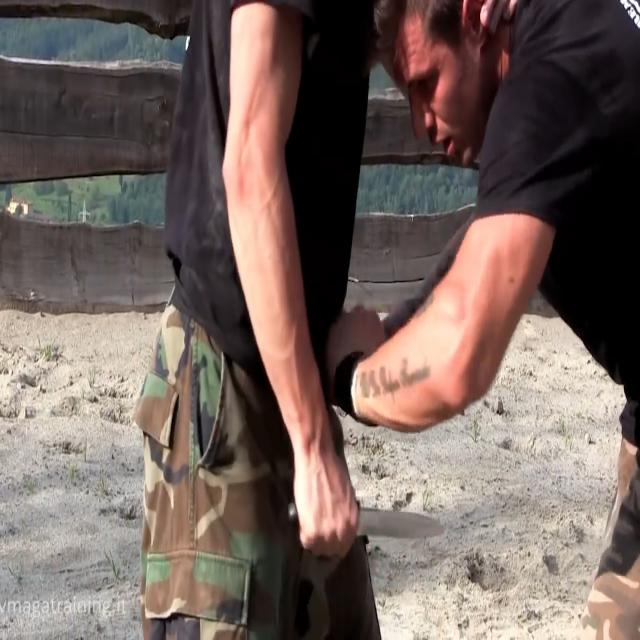knife: (357, 500, 451, 562)
